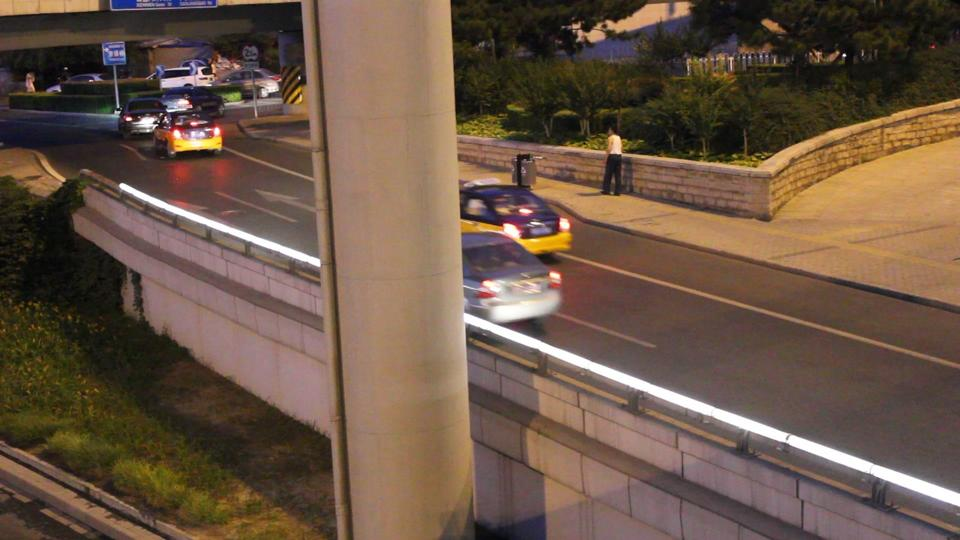Car: (399, 231, 559, 323), (425, 187, 568, 255), (154, 116, 221, 153), (118, 99, 167, 136)
